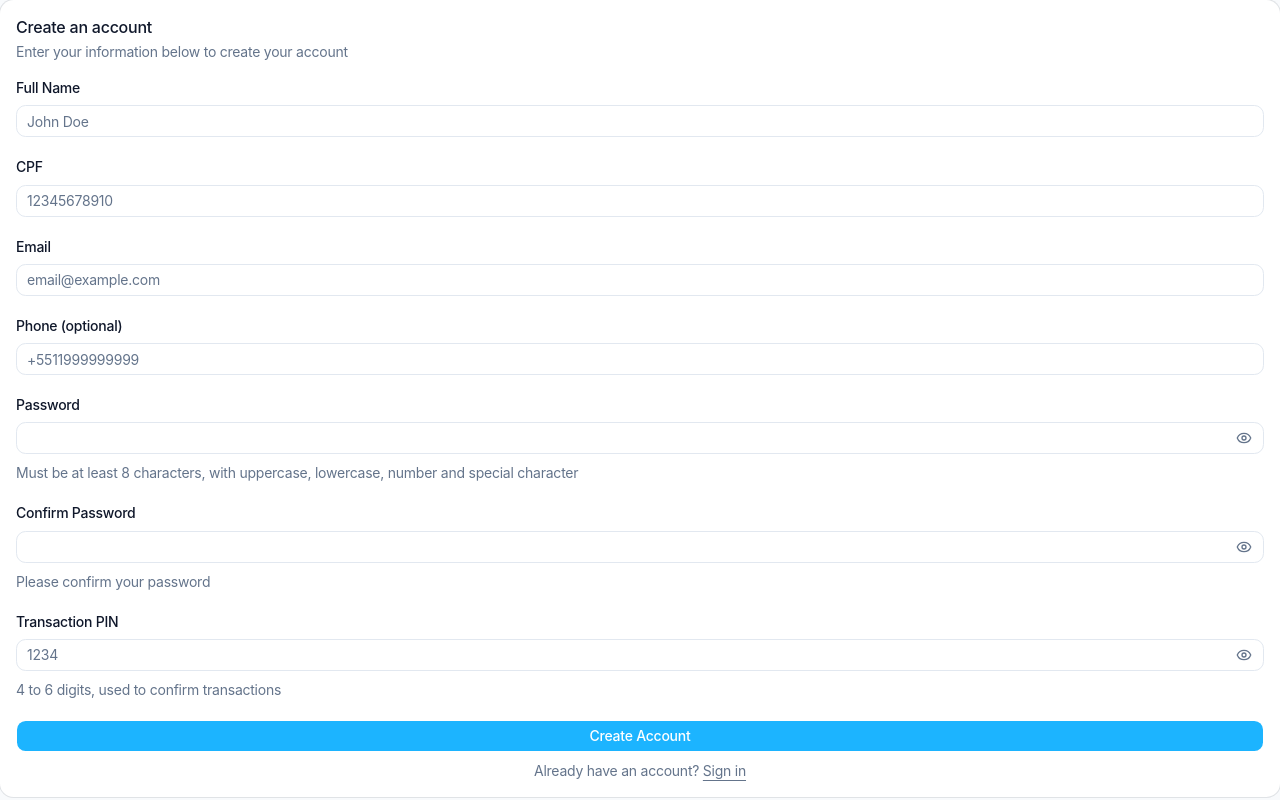
Test: SignupForm › only accepts digits in the transaction PIN field
Type "1a2b3c4" into the password field labelled "Transaction PIN" at (640, 655), box [16, 639, 1264, 671]
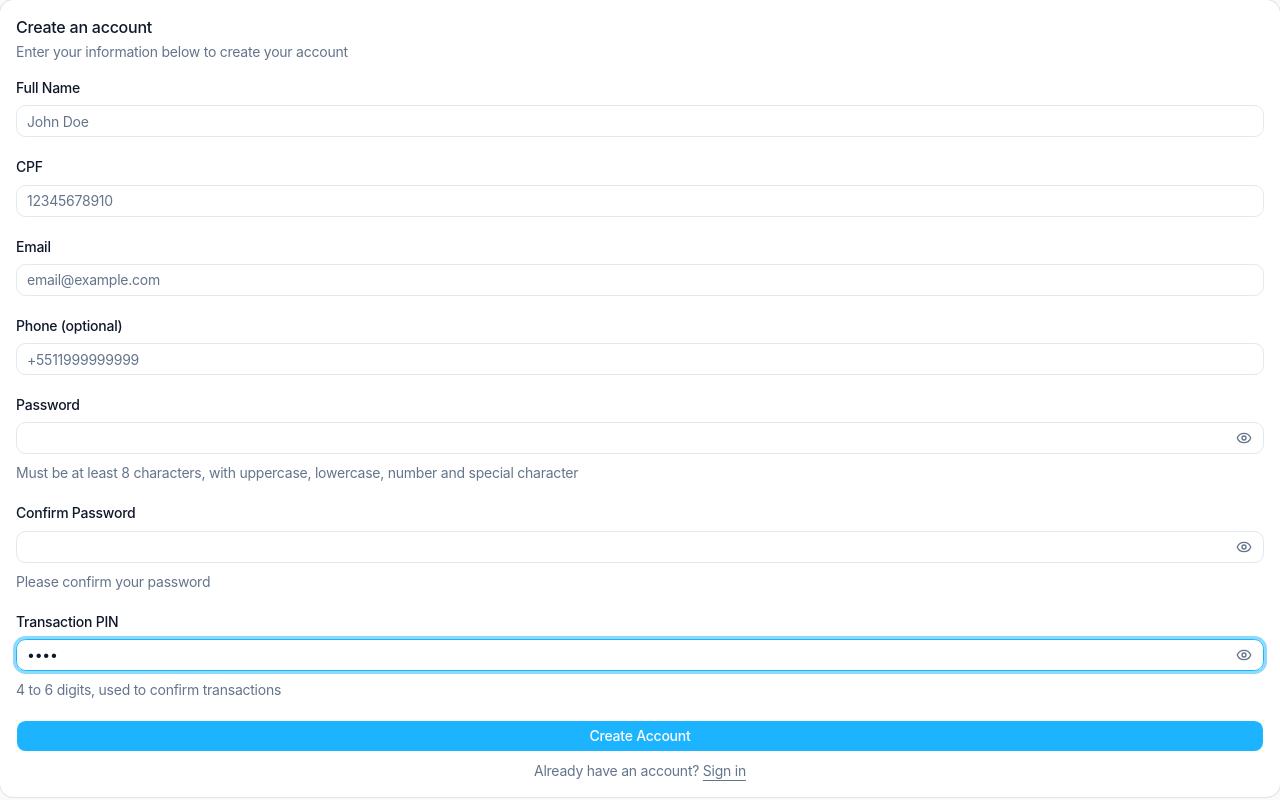
Check: the password field labelled "Transaction PIN" holds "1234", box [16, 639, 1264, 671]
